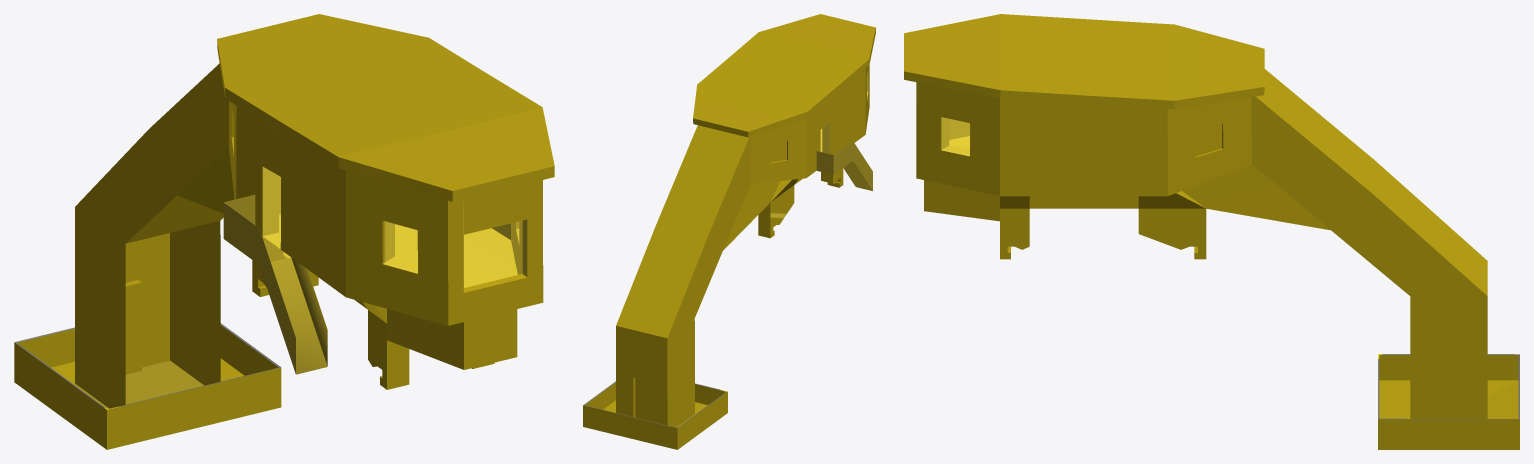
Rendered from cabine.fbx.
3 views of the same model, side by side, from view 1: azimuth 30°, elevation 25°; view 2: azimuth 150°, elevation 25°; view 3: azimuth 270°, elevation 25° (orthographic). The views are drawn at different scales.
Parts seen in each view (by area): view 1: Plane; view 2: Plane; view 3: Plane.
Part boxes in pixels (<box>): Plane: <box>14,14,554,449</box>; Plane: <box>583,14,875,449</box>; Plane: <box>904,14,1519,449</box>.
Bounding box in the file's own units: 722 × 1440 × 2200.
